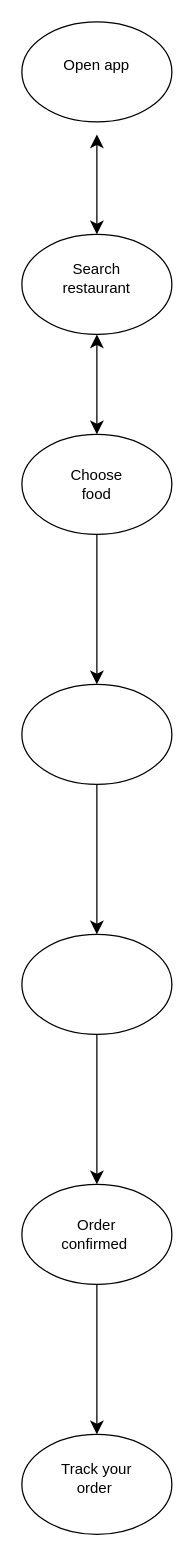
The diagram is 194 pixels wide and 1556 high, and some of its shapes have lost their labels. The shapes that lost their labels are listed below. From the top down, each one's centre as x and y in pixels, then its label:
At pixel 96 733: "Add to Cart".
At pixel 96 983: "Payment".
